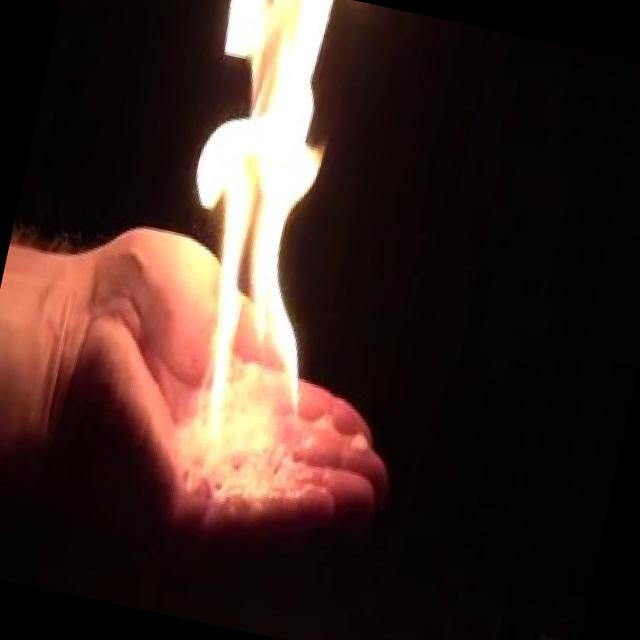Fire: (112, 0, 396, 479)
